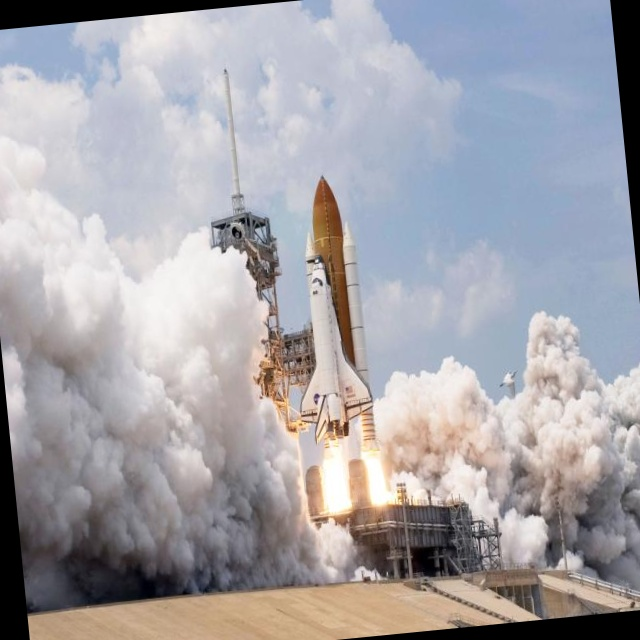rocket: (285, 242, 376, 443)
